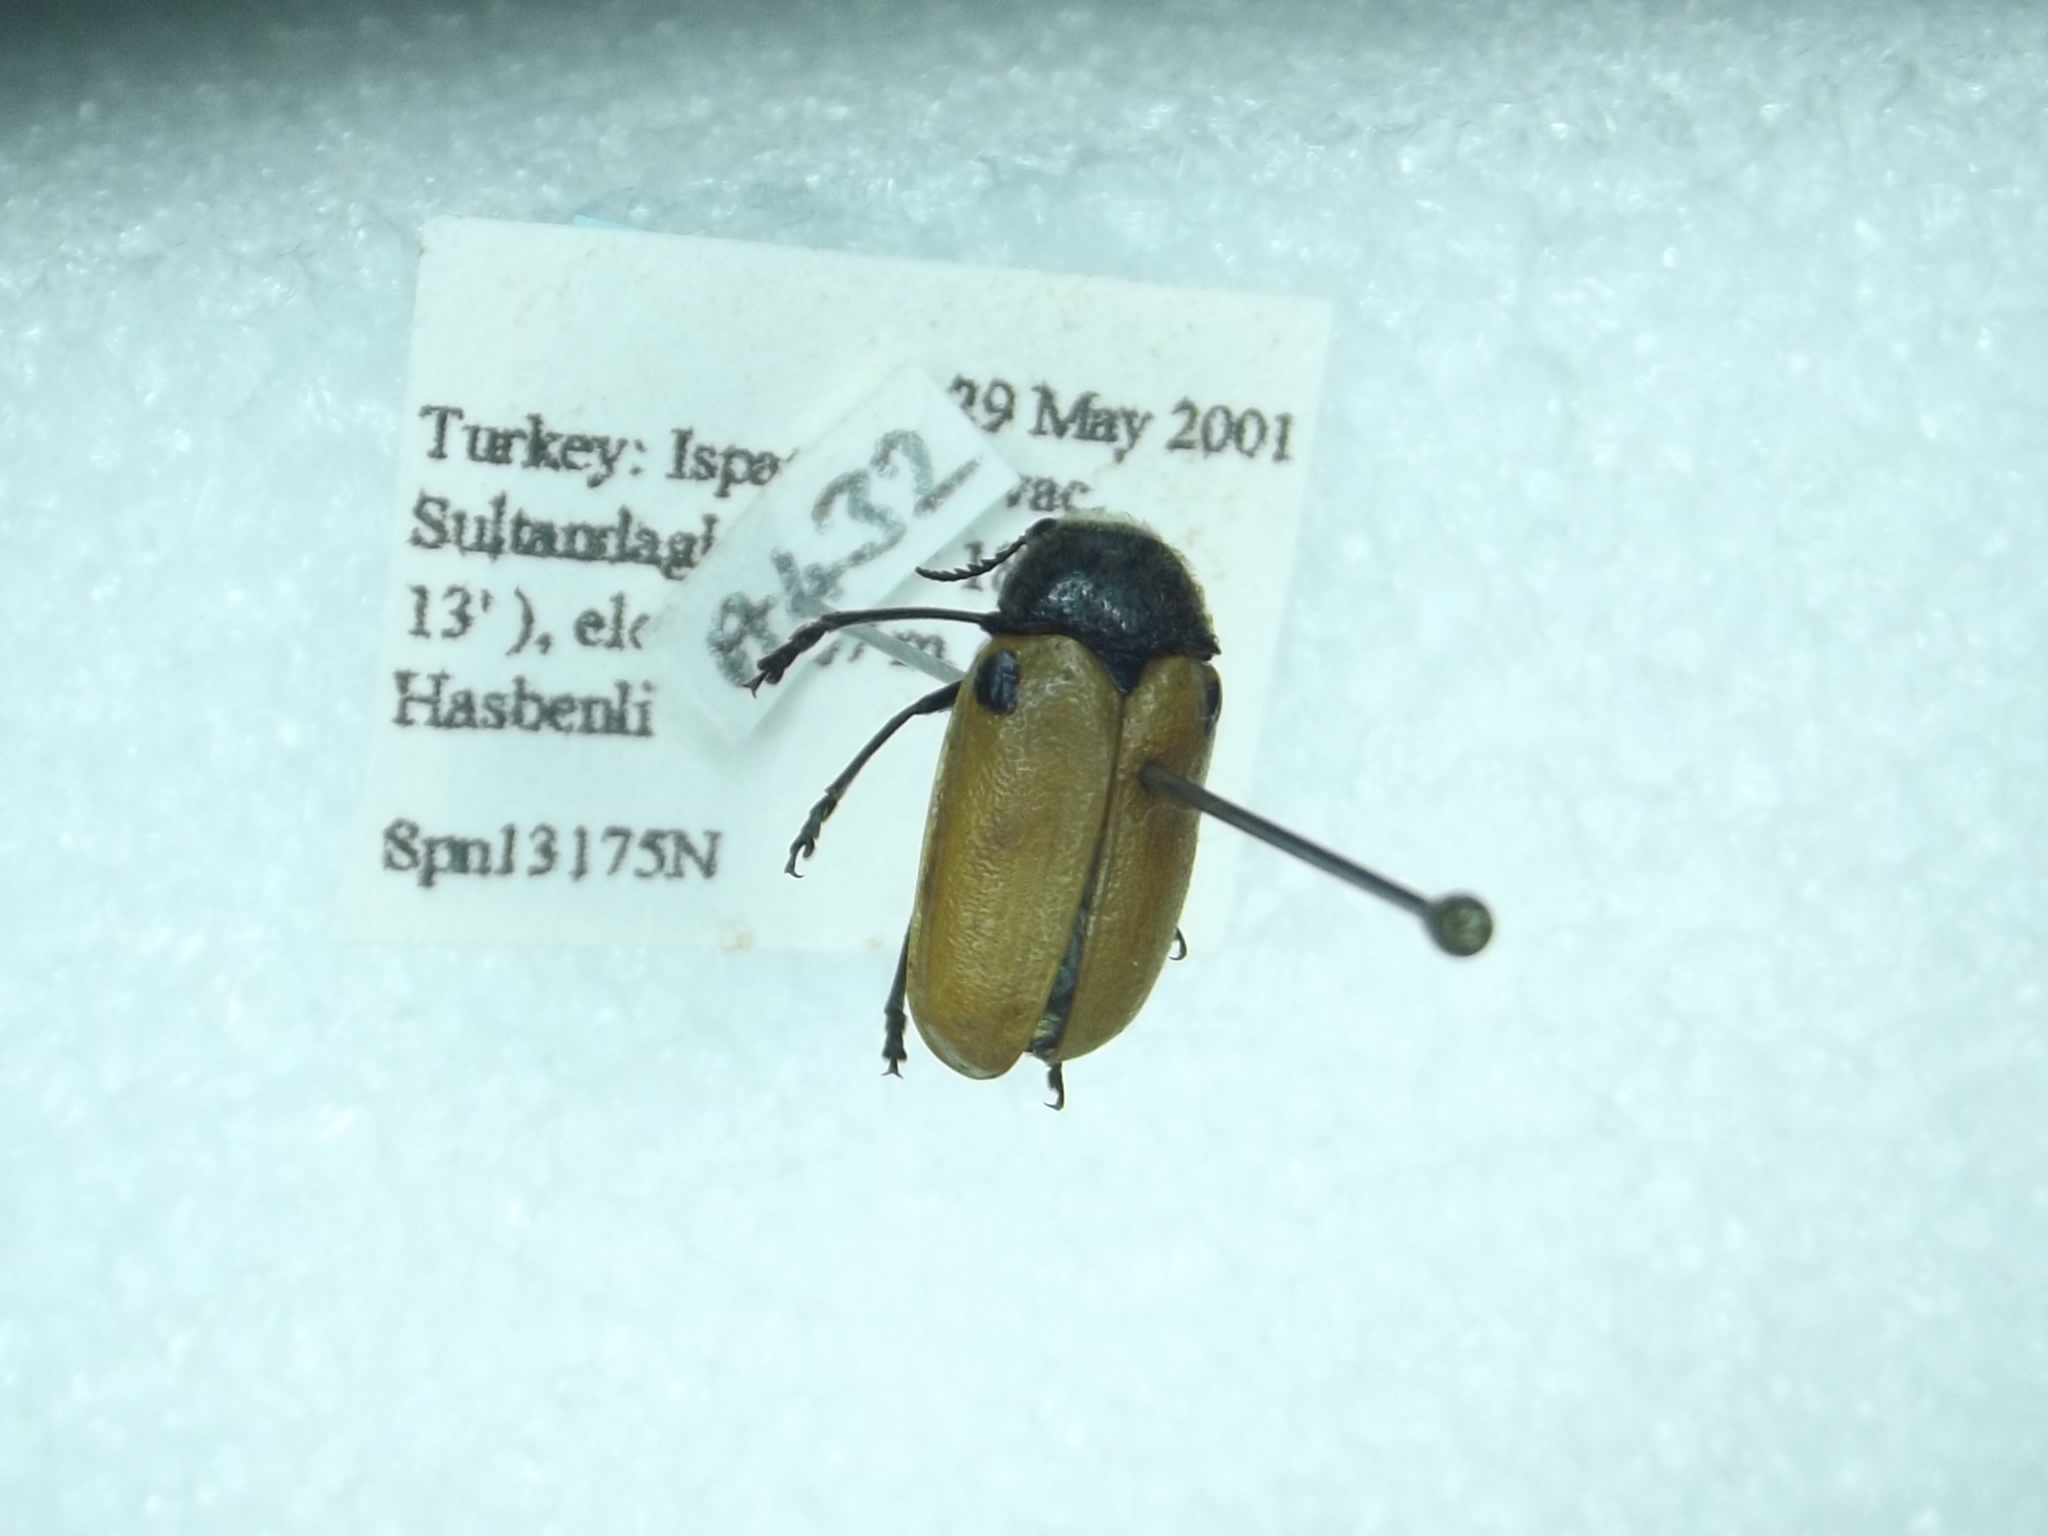Labidostomis_asiatica: (726, 502, 1229, 1115)
